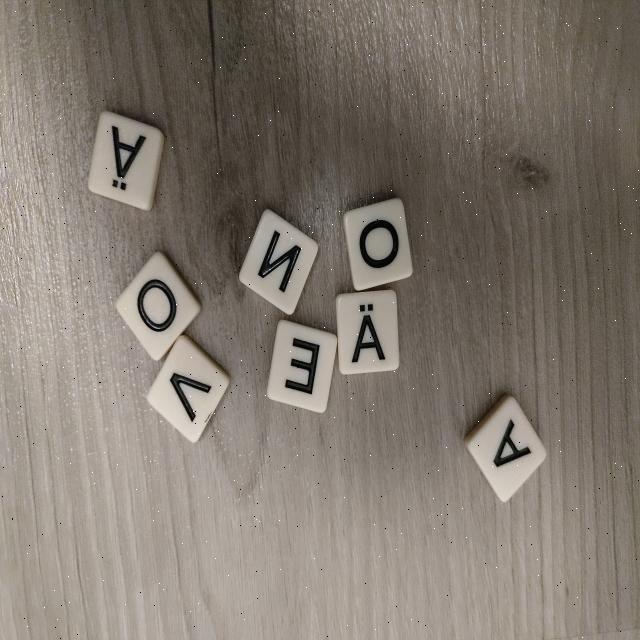a: (462, 390, 549, 505)
a_dot: (86, 107, 166, 212), (335, 289, 400, 376)
e: (265, 318, 339, 416)
n: (237, 206, 321, 318)
o: (113, 247, 203, 364), (341, 195, 414, 292)
v: (144, 331, 233, 445)
